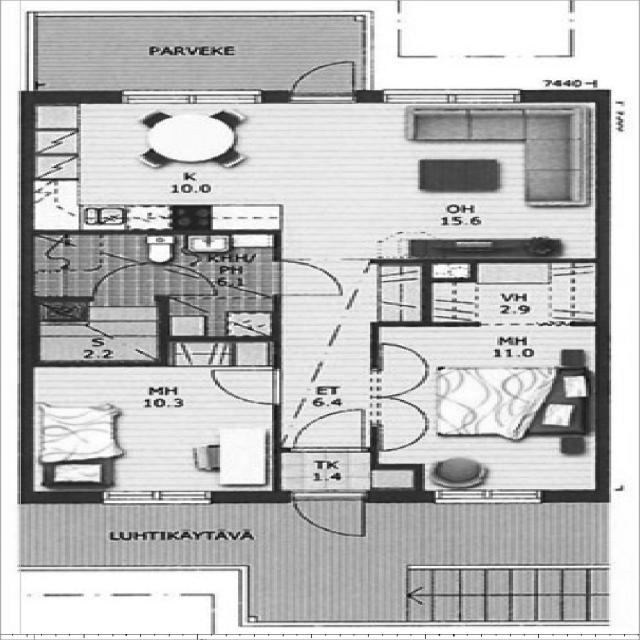door: (89, 266, 234, 304), (290, 492, 374, 548), (296, 411, 382, 462), (295, 54, 364, 102), (202, 366, 286, 404), (275, 256, 346, 298)
window: (105, 86, 270, 108), (385, 80, 524, 106), (433, 486, 548, 512), (100, 490, 210, 506)
zone: (22, 92, 600, 257), (378, 323, 600, 494), (22, 233, 275, 363), (28, 369, 275, 495), (423, 265, 592, 323)
